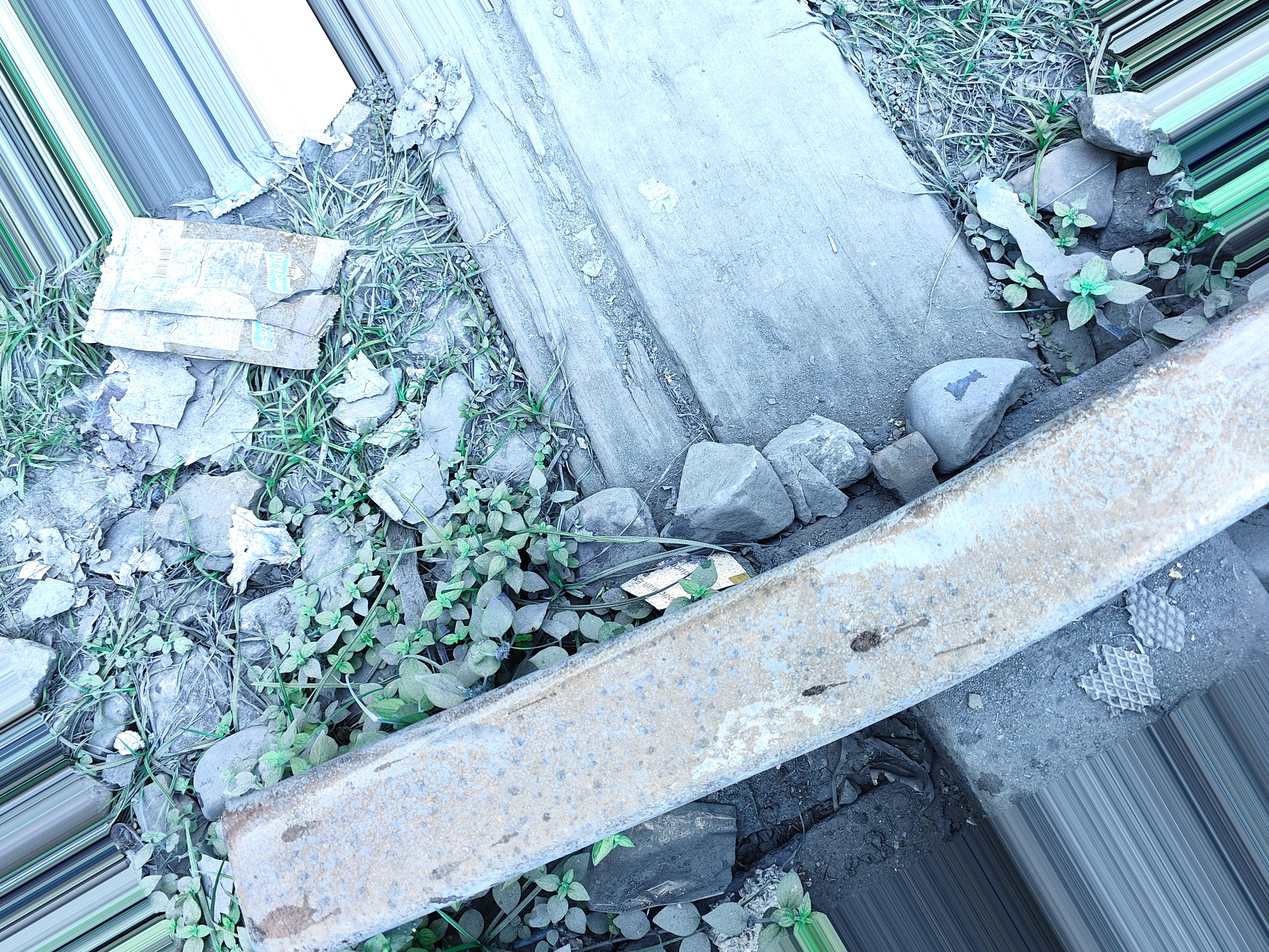tracks_fault: (60, 702, 411, 941)
